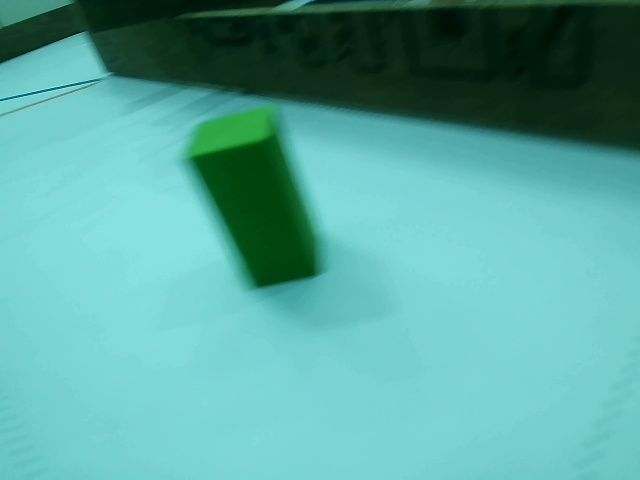green: (173, 129, 339, 293)
